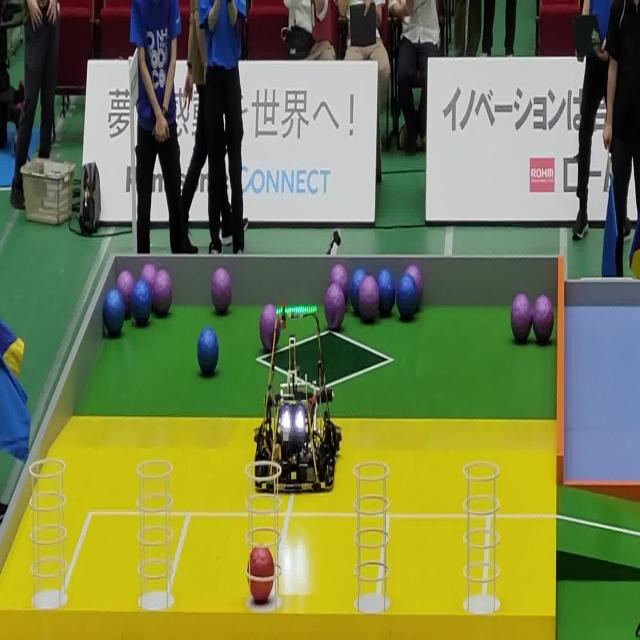blue_ball: (197, 328, 219, 378), (101, 294, 124, 339), (395, 279, 417, 323), (378, 267, 395, 319), (131, 282, 151, 326), (350, 268, 359, 317)
purple_ball: (259, 303, 282, 353), (532, 293, 554, 344), (323, 283, 346, 331), (211, 268, 233, 317), (511, 293, 532, 344), (359, 277, 379, 325), (152, 270, 172, 314), (330, 265, 349, 305), (124, 270, 132, 315), (140, 263, 156, 280), (406, 265, 424, 280)
red_ball: (247, 542, 275, 608), (246, 545, 276, 601)
